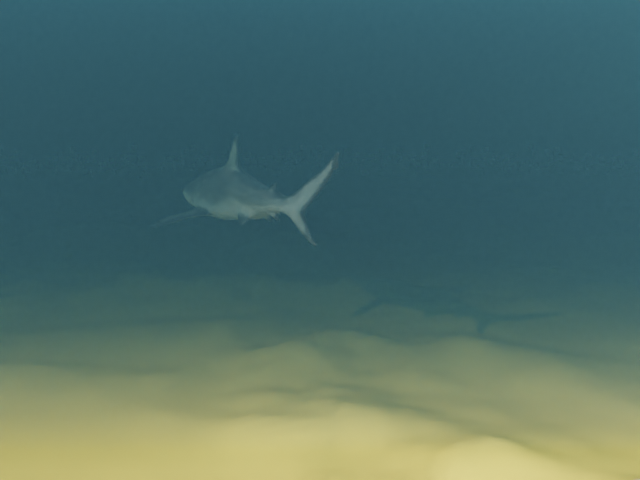Carribean Shark.001: (149, 135, 339, 245)
